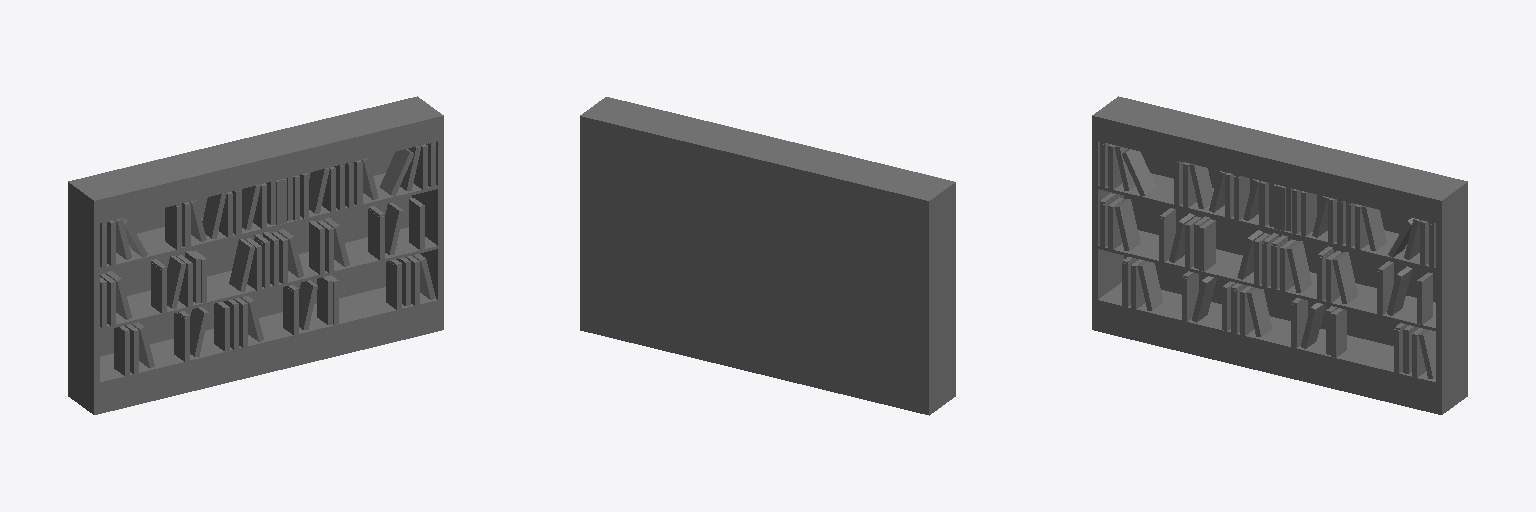
File: Shelves_01_OBJ.obj
The picture shows the model from 3 angles: view 1: azimuth 30°, elevation 25°; view 2: azimuth 150°, elevation 25°; view 3: azimuth 330°, elevation 25°; orthographic projection.
Parts seen in each view (by area): view 1: Shelves_01_OBJ.obj; view 2: Shelves_01_OBJ.obj; view 3: Shelves_01_OBJ.obj.
Boxes of the visible parts, box(x1,y1,x2,y2) form: Shelves_01_OBJ.obj: box(68, 96, 443, 414); Shelves_01_OBJ.obj: box(580, 97, 955, 415); Shelves_01_OBJ.obj: box(1092, 96, 1467, 414).
Size of the model in its own units: 610 by 358 by 81.